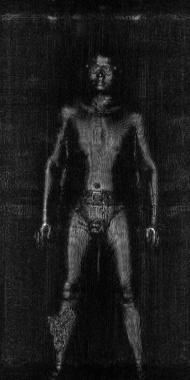gun: (44, 303, 75, 353)
